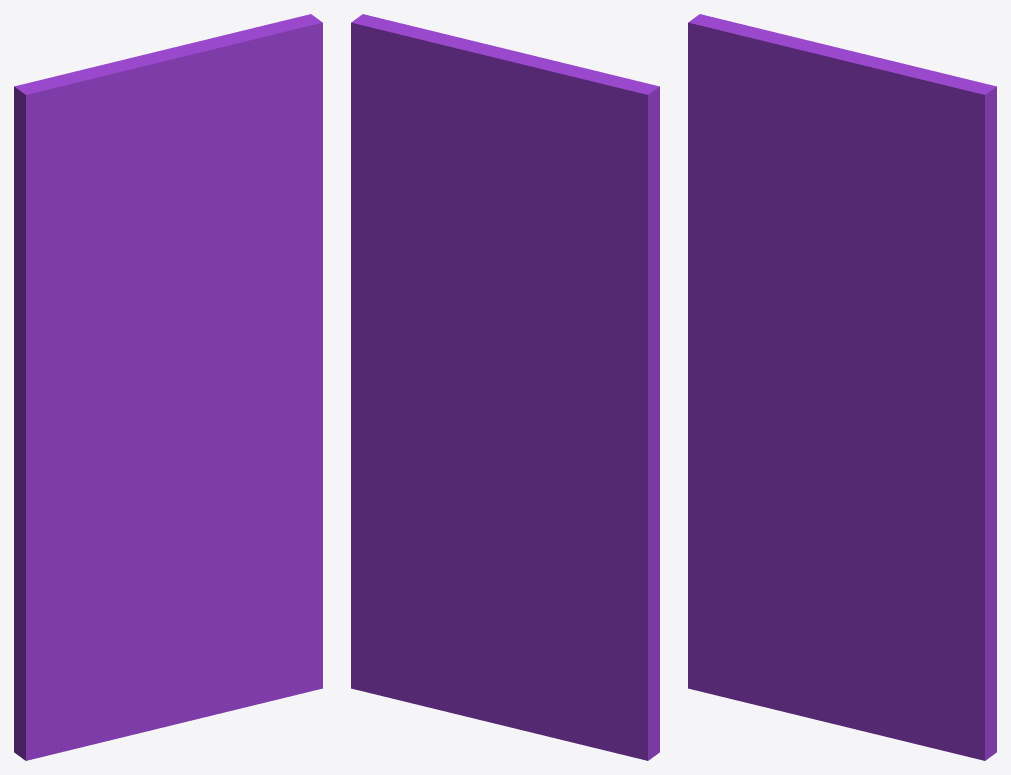
The model's file is Glass_64_chunks.fbx.
3 views of the same model, side by side, from view 1: azimuth 30°, elevation 25°; view 2: azimuth 150°, elevation 25°; view 3: azimuth 330°, elevation 25° (orthographic).
Parts seen in each view (by area): view 1: Glass_64_0, Glass_64_9, Glass_64_5, Glass_64_2, Glass_64_7, Glass_64_8, Glass_64_1, Glass_64_4, Glass_64_6, Glass_64_3; view 2: Glass_64_0, Glass_64_9, Glass_64_5, Glass_64_7, Glass_64_2, Glass_64_8, Glass_64_3, Glass_64_4; view 3: Glass_64_0, Glass_64_9, Glass_64_5, Glass_64_2, Glass_64_8, Glass_64_7, Glass_64_1, Glass_64_4, Glass_64_6, Glass_64_3.
Boxes of the visible parts, x1,y1,x2,y2 form: Glass_64_0: [14, 433, 322, 760]; Glass_64_9: [103, 14, 322, 237]; Glass_64_5: [14, 65, 149, 310]; Glass_64_2: [14, 306, 154, 575]; Glass_64_7: [159, 271, 322, 423]; Glass_64_8: [241, 37, 322, 358]; Glass_64_1: [122, 381, 322, 460]; Glass_64_4: [107, 259, 172, 410]; Glass_64_6: [146, 233, 242, 305]; Glass_64_3: [14, 257, 76, 425]; Glass_64_0: [351, 387, 659, 760]; Glass_64_9: [351, 14, 569, 288]; Glass_64_5: [527, 64, 659, 298]; Glass_64_7: [351, 262, 519, 416]; Glass_64_2: [536, 341, 659, 566]; Glass_64_8: [351, 62, 432, 349]; Glass_64_3: [574, 266, 659, 433]; Glass_64_4: [501, 248, 575, 428]; Glass_64_0: [688, 435, 996, 760]; Glass_64_9: [777, 35, 996, 266]; Glass_64_5: [688, 14, 811, 272]; Glass_64_2: [688, 263, 816, 502]; Glass_64_8: [903, 110, 996, 431]; Glass_64_7: [821, 298, 996, 496]; Glass_64_1: [784, 381, 985, 505]; Glass_64_4: [769, 247, 835, 400]; Glass_64_6: [808, 224, 905, 303]; Glass_64_3: [688, 215, 739, 304].
Size of the model in its own units: 398 by 852 by 27.2.
